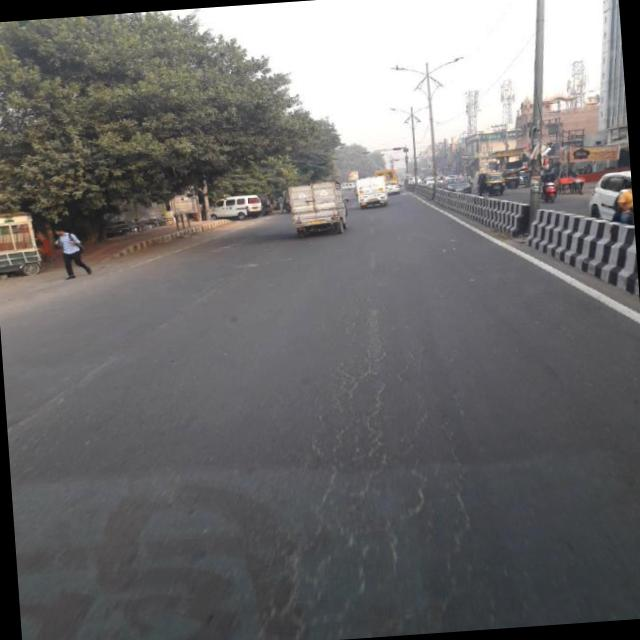crack: (214, 290, 485, 640)
